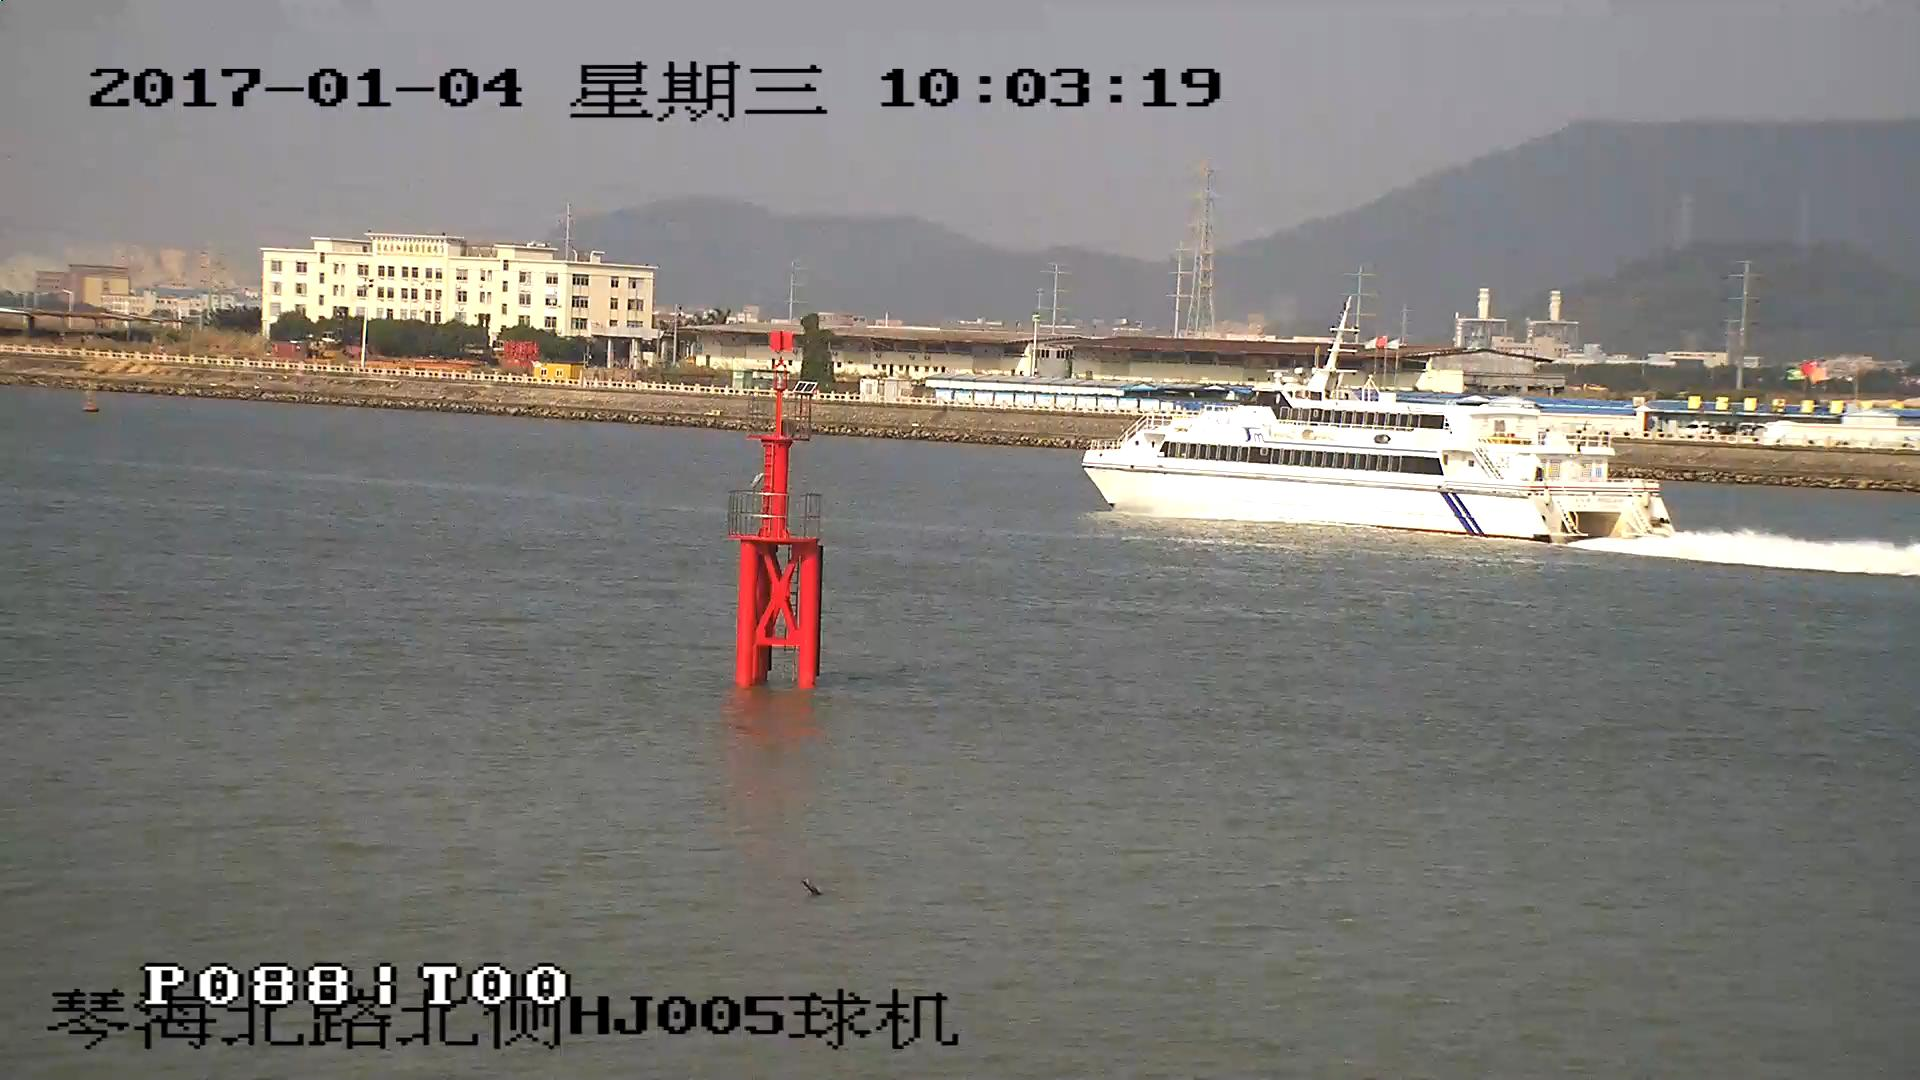passenger ship: (1080, 292, 1684, 548)
